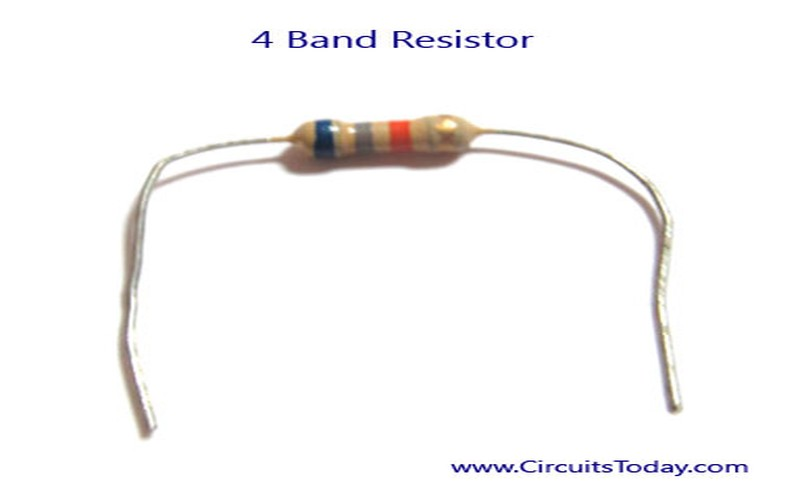Resistor: (260, 86, 495, 198)
